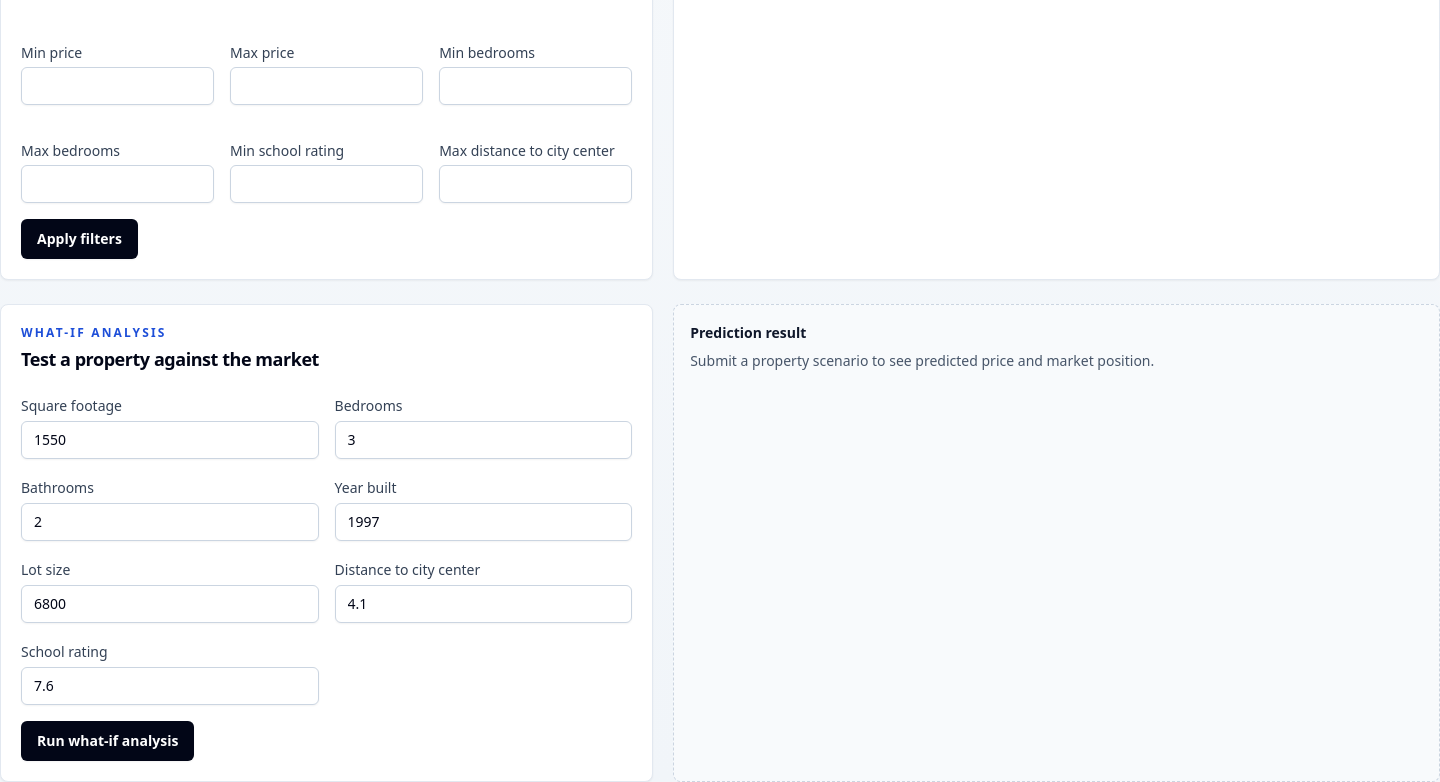
MarketDashboard › submits what-if values and renders predicted price
The width and height of the screenshot is (1440, 782).
(page scrolled)
Click the button "Run what-if analysis".
click(108, 741)  # box [21, 721, 194, 761]
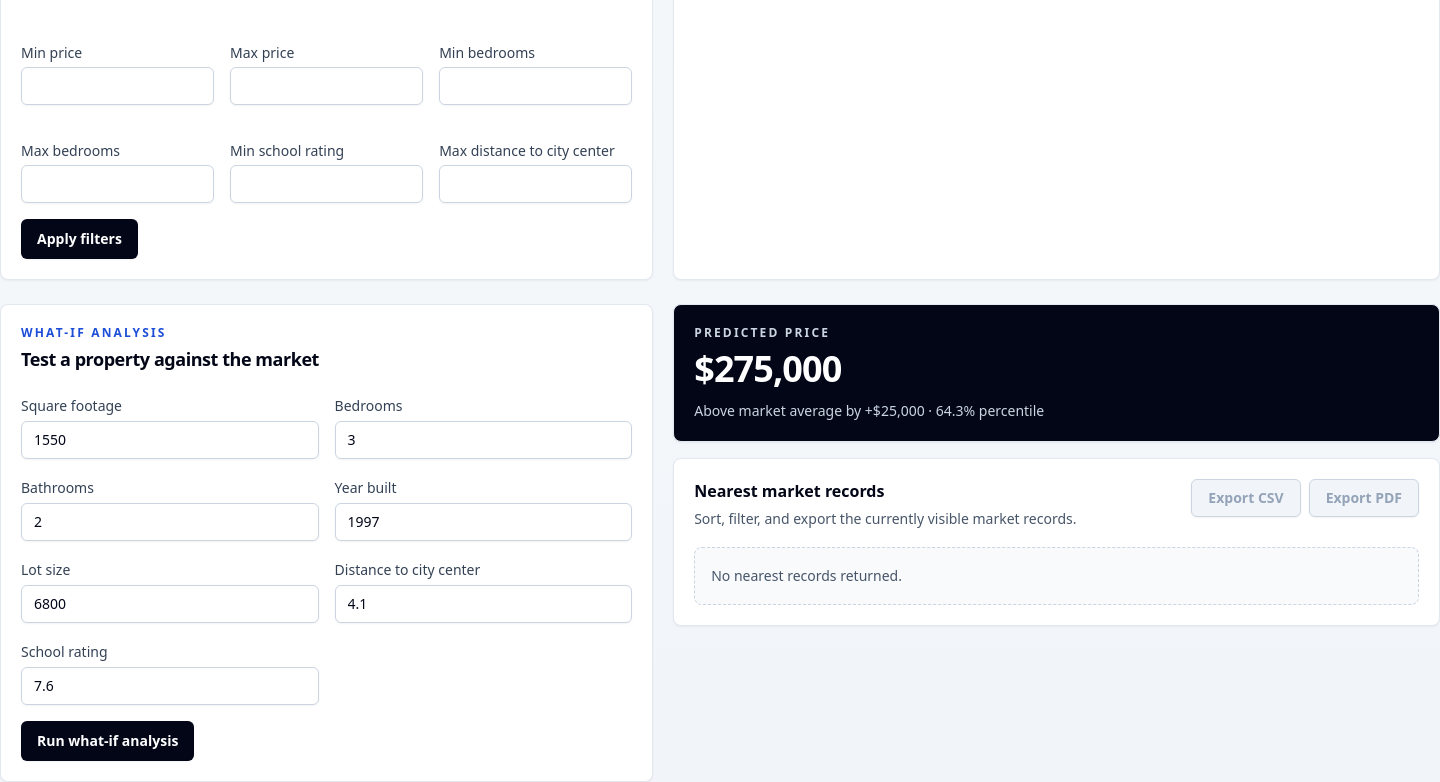
Check: the text "$275,000" is shown, box [694, 344, 841, 393]
